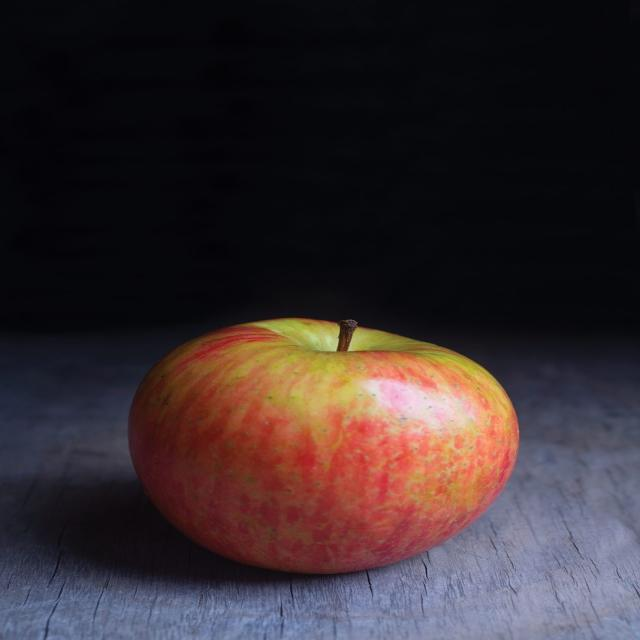Quả táo: (127, 316, 520, 576)
